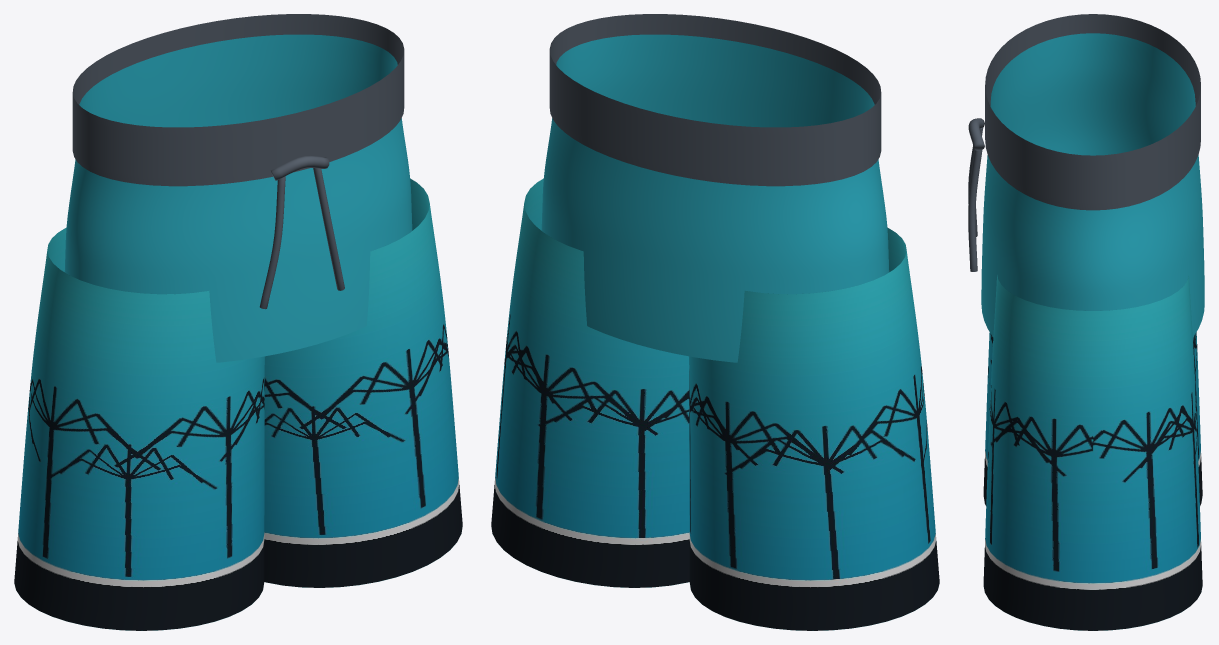
File: boardshort.glb
The picture shows the model from 3 angles, left to right: view 1: azimuth 30°, elevation 25°; view 2: azimuth 150°, elevation 25°; view 3: azimuth 270°, elevation 25°; orthographic projection. The views are drawn at different scales.
Parts seen in each view (by area): view 1: jambe-1, bassin, jambe1, ceinture, cordon-1, cordon1, noeud; view 2: jambe-1, bassin, jambe1, ceinture; view 3: jambe1, bassin, ceinture, jambe-1, cordon1, noeud.
Part boxes in pixels (bbox=[...]): jambe-1: bbox=[14, 227, 264, 630]; bassin: bbox=[64, 34, 412, 362]; jambe1: bbox=[264, 178, 462, 587]; ceinture: bbox=[72, 14, 404, 186]; cordon-1: bbox=[259, 176, 285, 309]; cordon1: bbox=[313, 168, 344, 290]; noeud: bbox=[271, 155, 329, 180]; jambe-1: bbox=[689, 227, 939, 630]; bassin: bbox=[541, 34, 889, 362]; jambe1: bbox=[491, 178, 689, 587]; ceinture: bbox=[549, 14, 881, 186]; jambe1: bbox=[983, 275, 1202, 630]; bassin: bbox=[981, 33, 1204, 337]; ceinture: bbox=[985, 14, 1200, 210]; jambe-1: bbox=[983, 332, 1202, 505]; cordon1: bbox=[968, 150, 982, 271]; noeud: bbox=[968, 118, 984, 150].
Bounding box in the file's own units: 0.4857 × 0.5457 × 0.2542.
3 materials, 1 textured.
